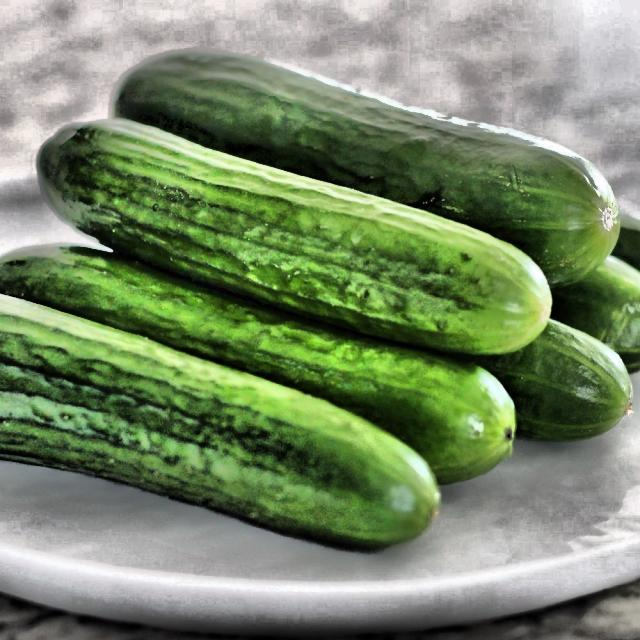cucumber: (0, 43, 602, 512)
